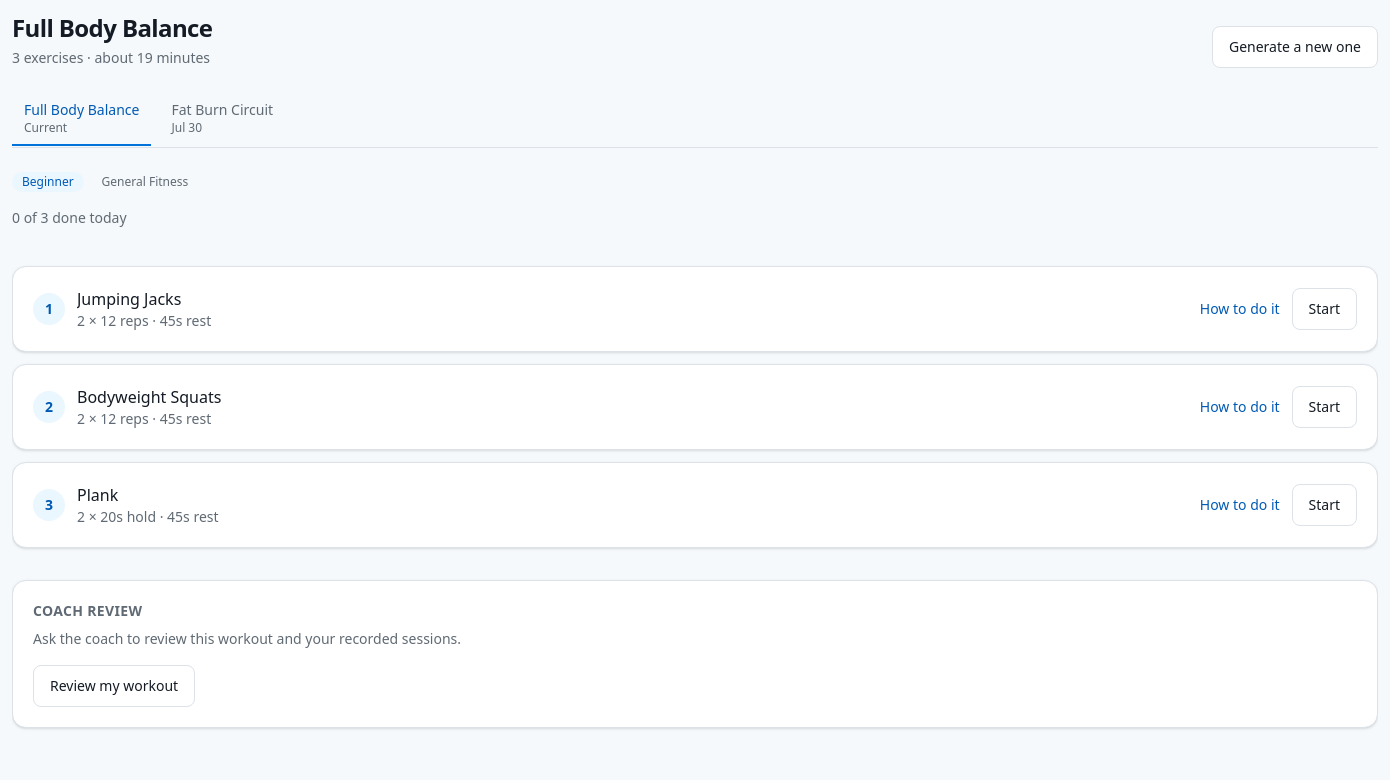
Test: the workout page › returns to the current plan after generating
Click the tab "Fat Burn Circuit Jul 30" at (222, 119), box x1=159 y1=92 x2=285 y2=146
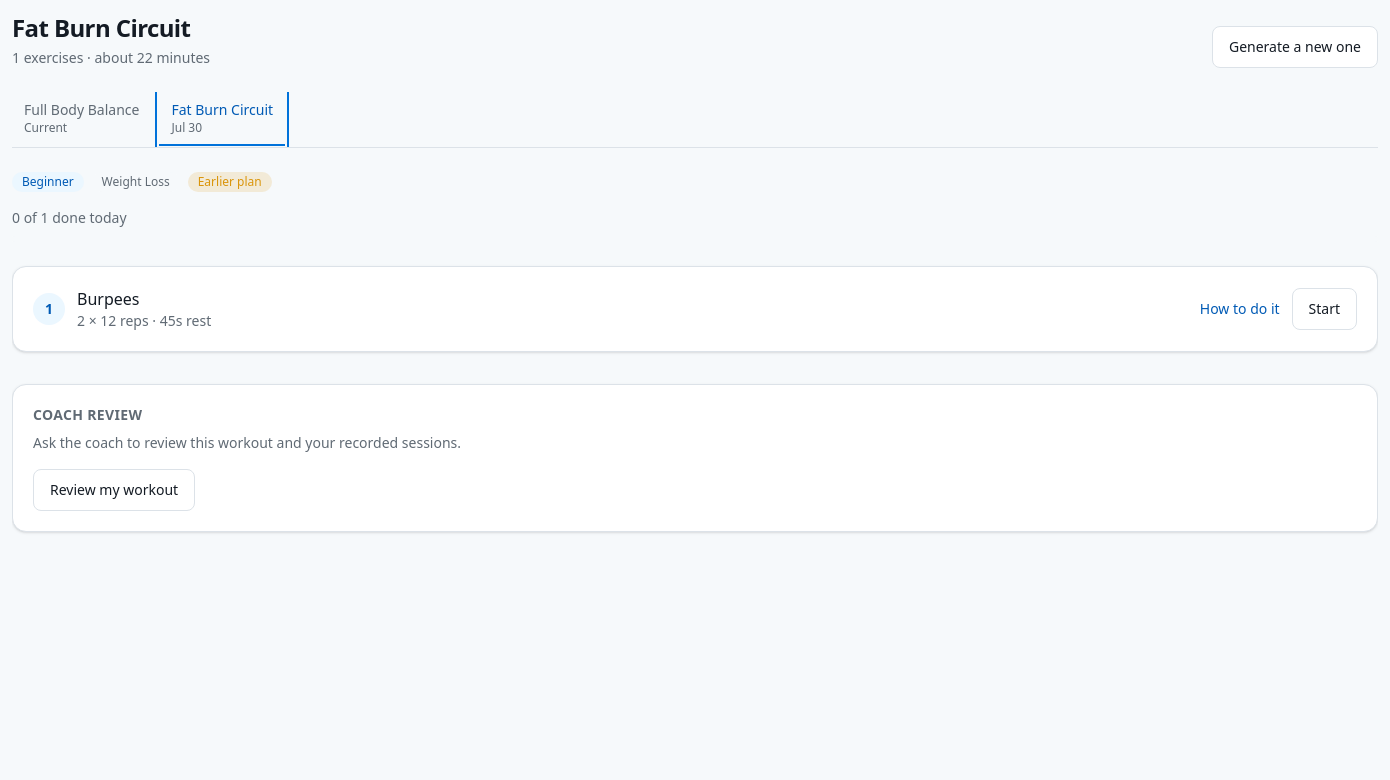
Now the text "Burpees" is shown, box x1=77 y1=287 x2=140 y2=311
Click the button "Generate a new one" at (1295, 47), box x1=1212 y1=26 x2=1378 y2=68
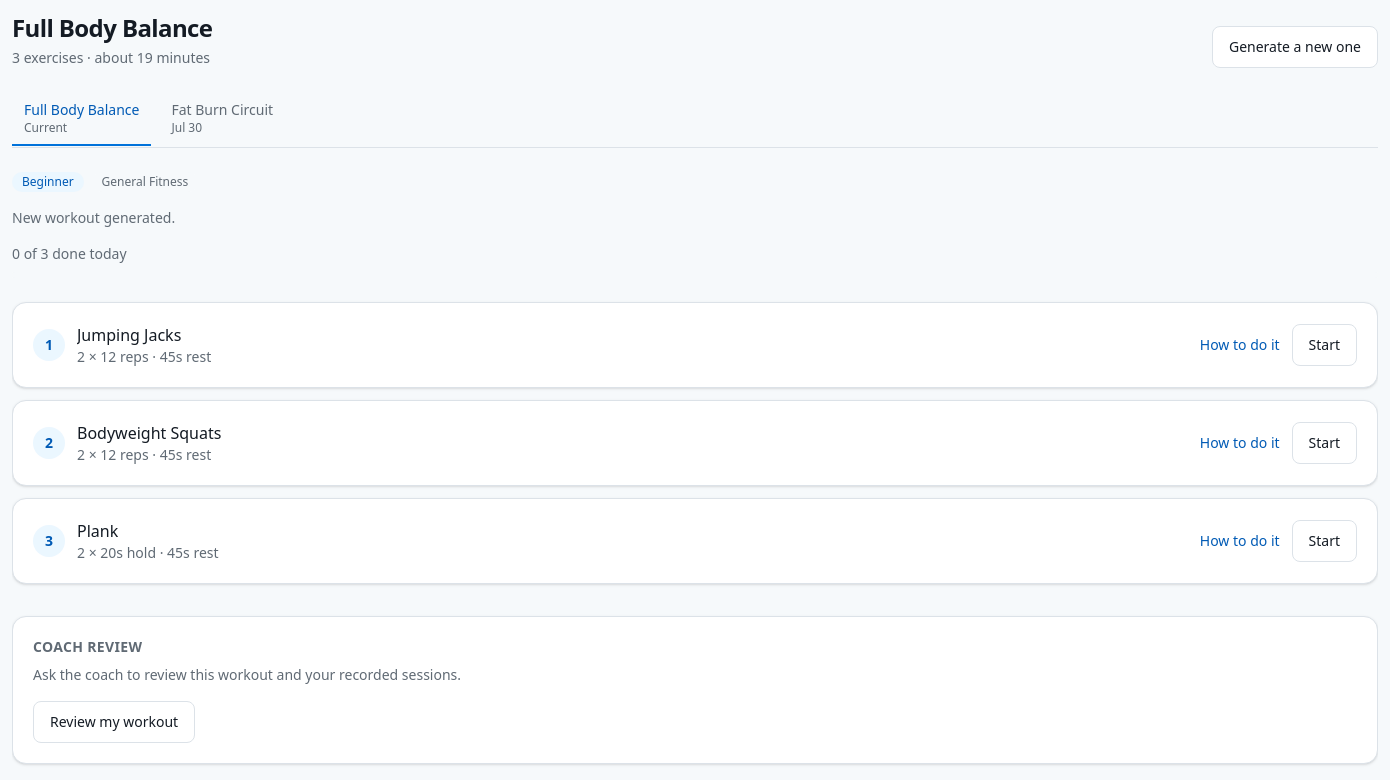
Now the text "Jumping Jacks" is shown, box x1=77 y1=323 x2=181 y2=347
Now the text "Earlier plan" is gone
